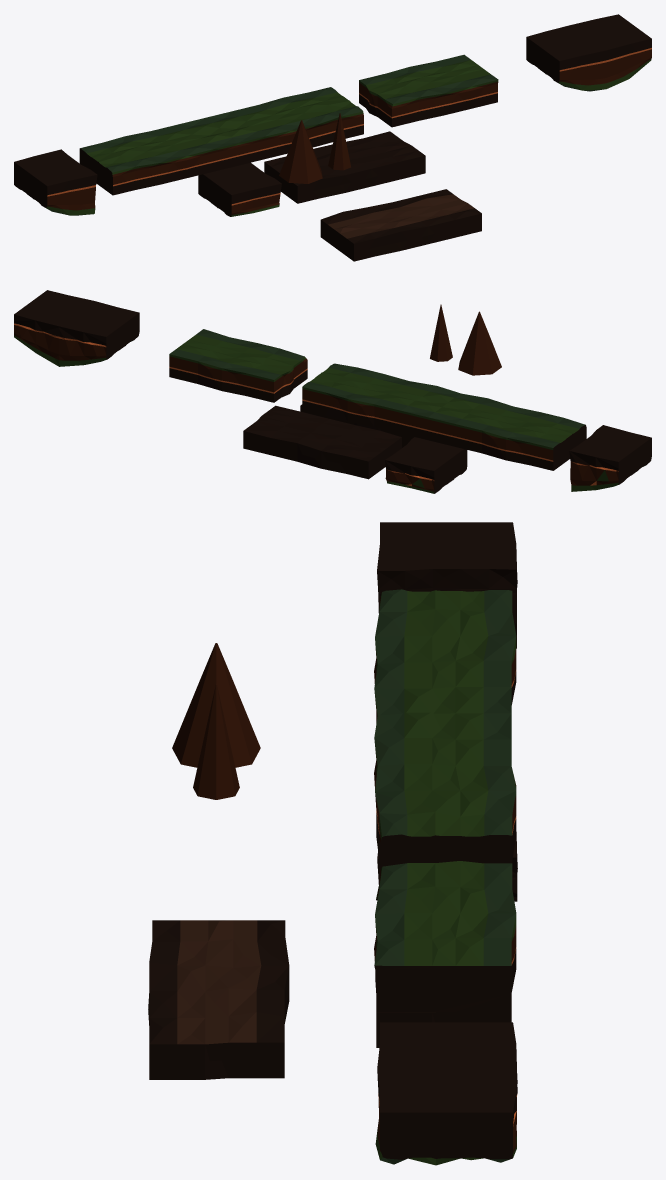
File: floorBemLowPoly.FBX
The picture shows the model from 3 angles, top to bottom: view 1: azimuth 30°, elevation 25°; view 2: azimuth 150°, elevation 25°; view 3: azimuth 270°, elevation 25°; orthographic projection. The views are drawn at different scales.
Parts seen in each view (by area): view 1: Box004, Object010, Object006, Box003, Object009, Object008, Object007, Cone003, Cone004; view 2: Box004, Object009, Object006, Box003, Object008, Object007, Cone003, Cone004, Object010; view 3: Box004, Object010, Box003, Object006, Object008, Cone003, Cone004, Object009.
Part boxes in pixels (x1,y1,x2,y2): Box004: [79, 87, 363, 195]; Object010: [320, 189, 481, 261]; Object006: [526, 14, 651, 91]; Box003: [359, 54, 498, 127]; Object009: [264, 131, 425, 203]; Object008: [14, 149, 97, 215]; Object007: [198, 162, 281, 216]; Cone003: [279, 120, 322, 183]; Cone004: [328, 113, 350, 170]; Box004: [302, 363, 586, 470]; Object009: [243, 405, 401, 479]; Object006: [14, 290, 139, 366]; Box003: [169, 329, 307, 402]; Object008: [569, 425, 651, 491]; Object007: [385, 437, 467, 493]; Cone003: [458, 311, 501, 375]; Cone004: [430, 304, 452, 361]; Object010: [300, 404, 413, 447]; Box004: [374, 589, 516, 870]; Object010: [148, 920, 289, 1079]; Box003: [374, 861, 516, 1011]; Object006: [375, 1022, 517, 1165]; Object008: [377, 522, 517, 648]; Cone003: [172, 643, 260, 767]; Cone004: [193, 684, 239, 799]; Object009: [375, 960, 516, 1047].
Size of the model in its own units: 575 by 126 by 152.
